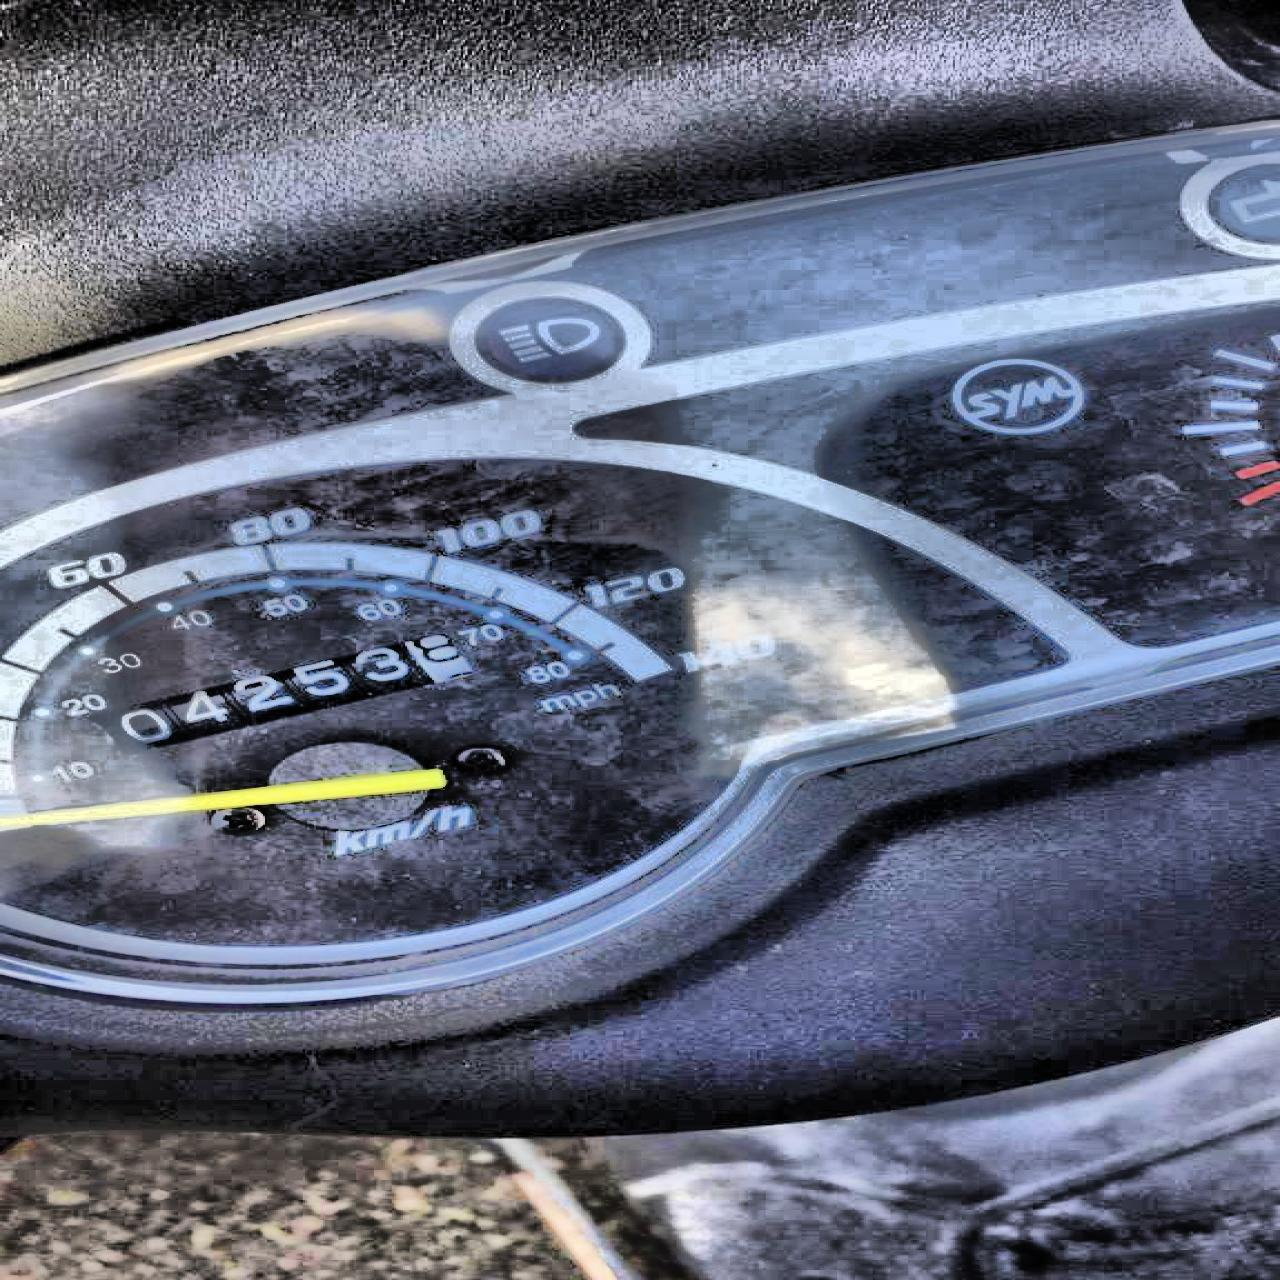0: (117, 707, 171, 742), (117, 652, 141, 669), (82, 694, 104, 712)
2: (230, 675, 292, 712)
3: (352, 646, 409, 680), (96, 656, 121, 674)
4: (183, 688, 227, 722)
5: (290, 659, 347, 695)
7: (456, 627, 477, 645)
8: (411, 631, 461, 661)
odometer: (84, 629, 477, 755)
